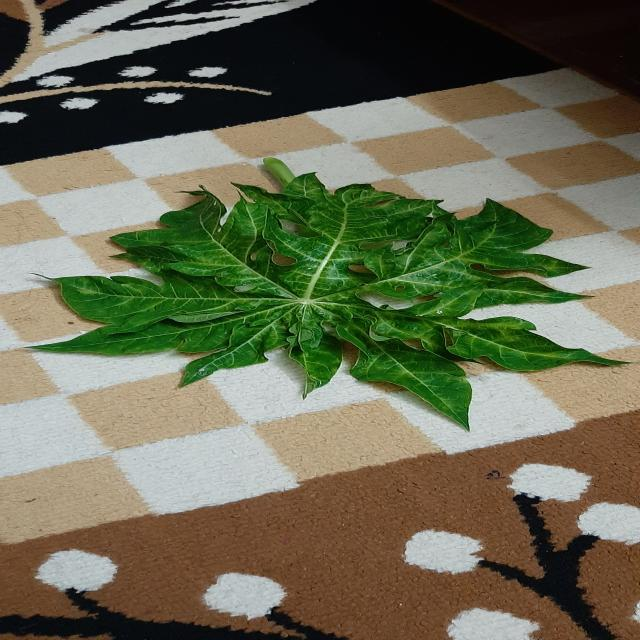papaya: (38, 159, 618, 415)
